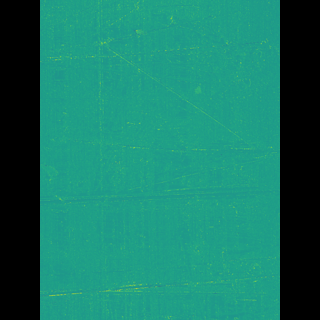Loch: (85, 0, 241, 319), (70, 238, 246, 301), (79, 6, 236, 66), (69, 174, 248, 207)
